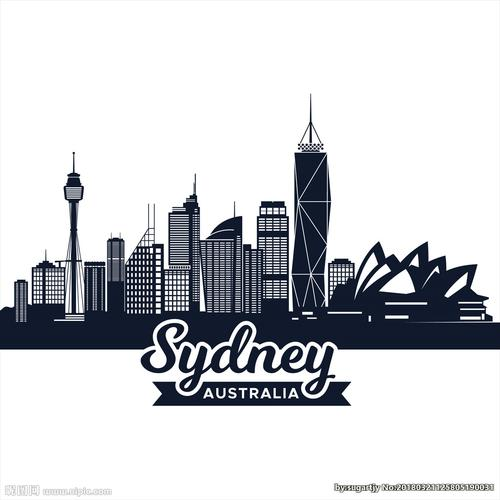buildings: (111, 167, 265, 352), (264, 86, 353, 332)
